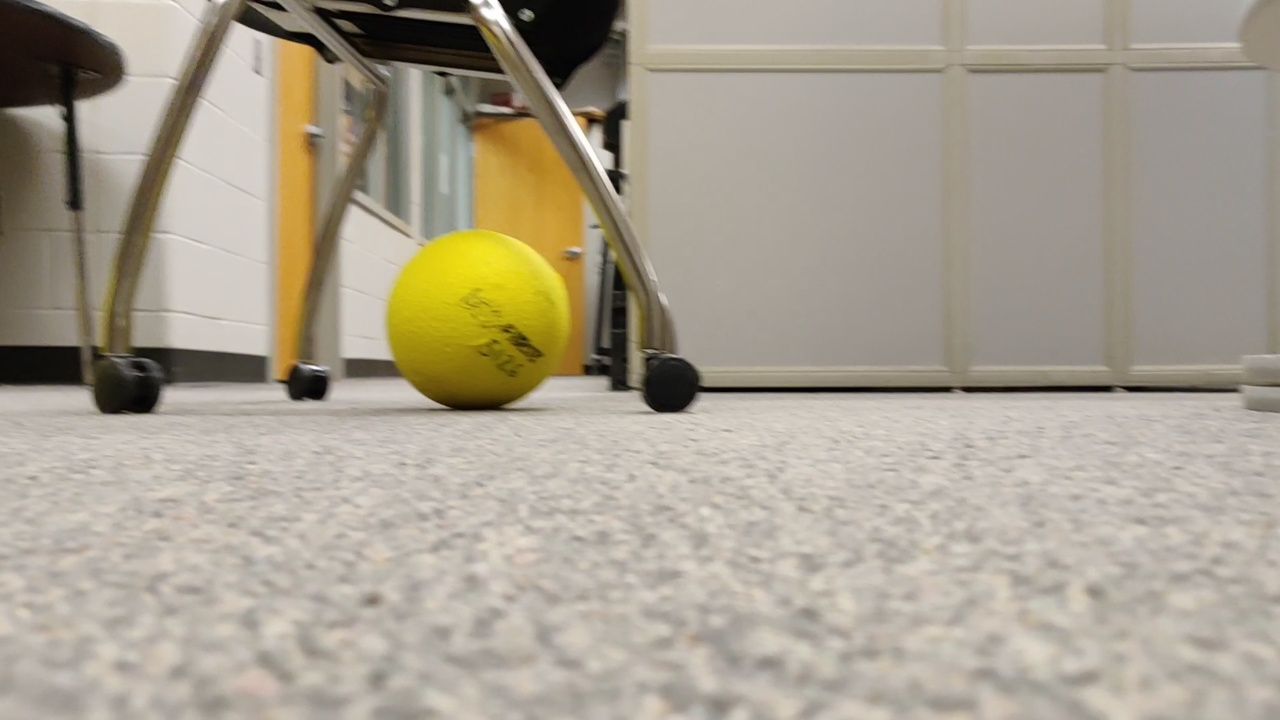Ball: (386, 230, 568, 406)
